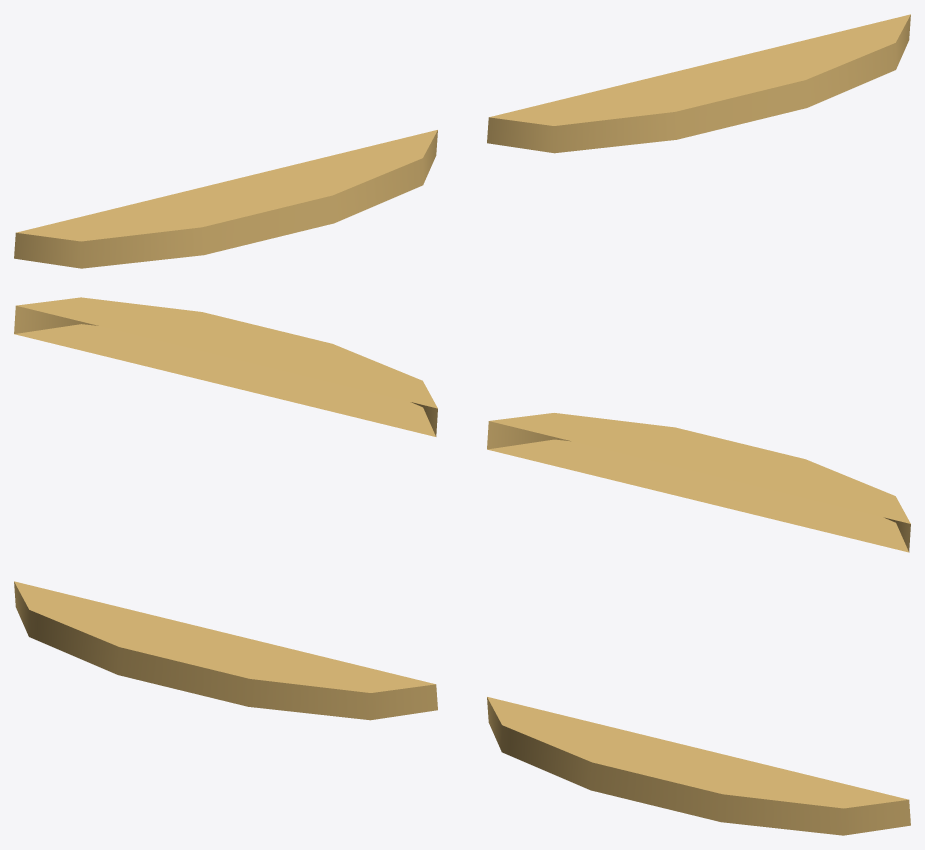
Rendered from scoremeters_new.fbx.
3 views of the same model, one above another, from view 1: azimuth 30°, elevation 25°; view 2: azimuth 150°, elevation 25°; view 3: azimuth 330°, elevation 25° (orthographic).
Parts seen in each view (by area): view 1: mesh_scoremeter_blue, mesh_scoremeter_red; view 2: mesh_scoremeter_blue, mesh_scoremeter_red; view 3: mesh_scoremeter_red, mesh_scoremeter_blue.
Part boxes in pixels (left/top/right/bottom): mesh_scoremeter_blue: left=487, top=14, right=910, bottom=153; mesh_scoremeter_red: left=14, top=130, right=437, bottom=268; mesh_scoremeter_blue: left=14, top=297, right=437, bottom=436; mesh_scoremeter_red: left=487, top=413, right=910, bottom=552; mesh_scoremeter_red: left=14, top=581, right=437, bottom=720; mesh_scoremeter_blue: left=487, top=697, right=910, bottom=835.
Bounding box in the file's own units: 0.037 × 0.00107 × 0.00315.
